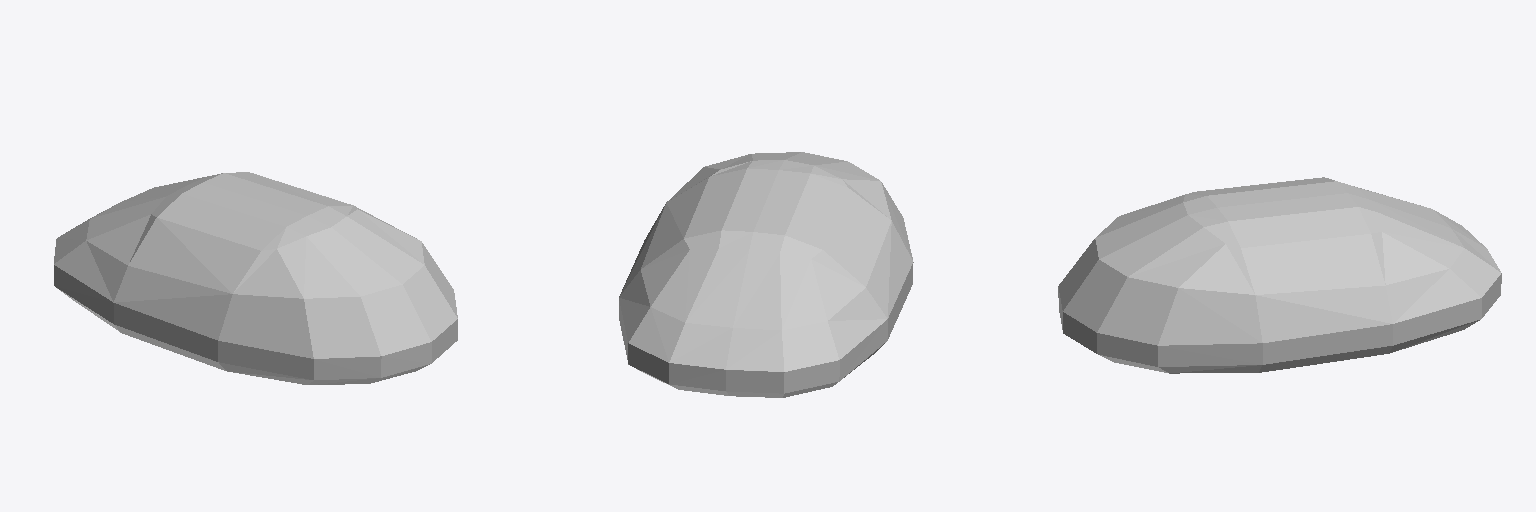
File: SM_Mouse.obj
3 views of the same model, side by side, from view 1: azimuth 30°, elevation 25°; view 2: azimuth 150°, elevation 25°; view 3: azimuth 270°, elevation 25° (orthographic).
Parts seen in each view (by area): view 1: Mouse; view 2: Mouse; view 3: Mouse.
Boxes of the visible parts, <box> form: Mouse: <box>54,172,457,384</box>; Mouse: <box>619,152,913,397</box>; Mouse: <box>1058,177,1501,373</box>.
Size of the model in its own units: 0.6114 by 0.2479 by 0.8566.